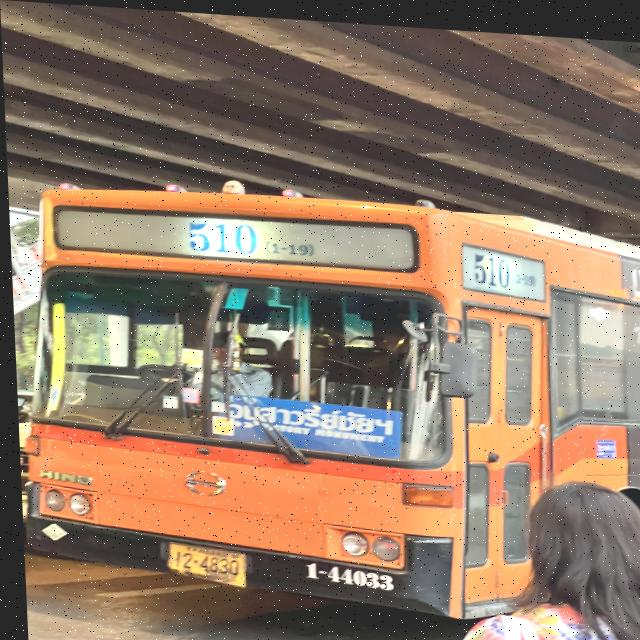BMTA-bus: (5, 157, 640, 633)
Bus Line Number: (173, 211, 328, 260)
Bus Side Number: (288, 557, 391, 589)
Destination Sign: (221, 389, 401, 457)
